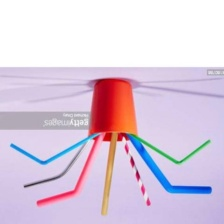drinking_straw: (5, 131, 104, 169), (123, 129, 214, 168), (97, 129, 120, 217)
glass: (86, 75, 140, 145)
